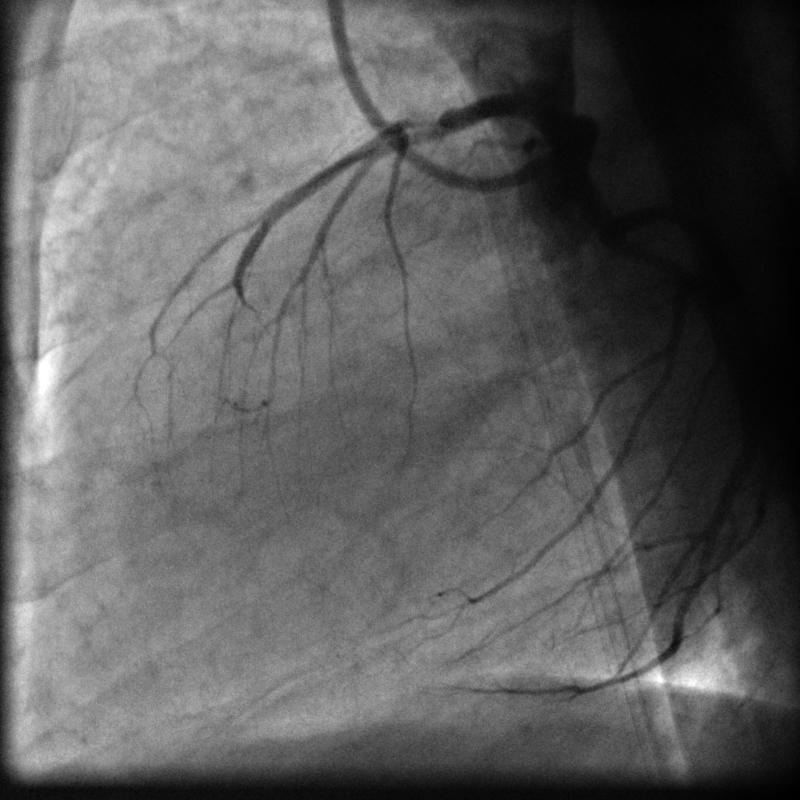Stenosis: (398, 108, 455, 145)
